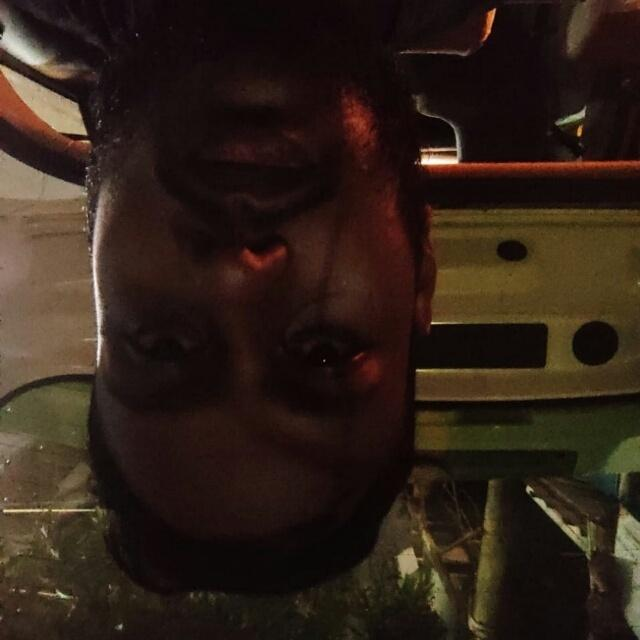Sad: (63, 79, 492, 586)
